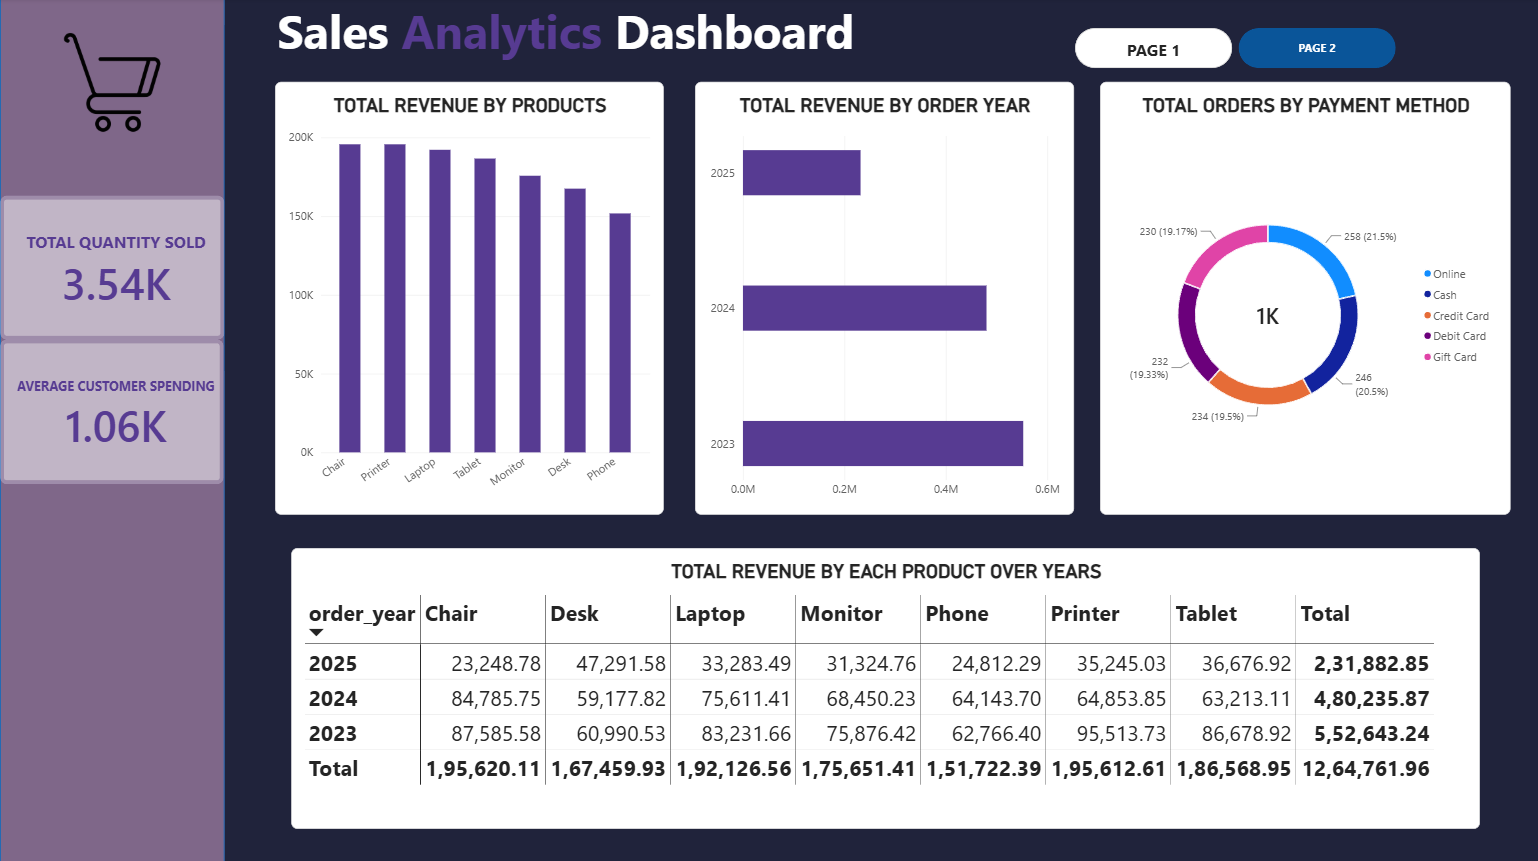

What the dashboard file says about the page in this screenshot:
{"tool":"powerbi","page":{"name":"PAGE 2","canvas":[1920,1080],"ordinal":1},"visuals":[{"type":"textbox","box":[280,0,850,120],"z":0},{"type":"shape","box":[0,0,280,1080],"z":1000},{"type":"image","box":[0,0,280,210],"z":2000},{"type":"cardVisual","fields":{"Data":["Sum(online_store_analysis vw_total_quantity_sold.total_quantity_sold)"]},"box":[0,245.7,280,180],"z":3000},{"type":"cardVisual","fields":{"Data":["Sum(online_store_analysis vw_average_customer_spending.average_customer_spending)"]},"box":[0,425.4,279.4,181.5],"z":4000},{"type":"barChart","title":"TOTAL REVENUE BY ORDER YEAR","fields":{"Category":["online_store_analysis vw_yearly_revenue.order_year"],"Y":["Sum(online_store_analysis vw_yearly_revenue.total_revenue)"]},"box":[867.5,105,472.5,540],"z":5000},{"type":"donutChart","title":"TOTAL ORDERS BY PAYMENT METHOD","fields":{"Category":["online_store_analysis vw_payment_method_popularity.PaymentMethod"],"Y":["Sum(online_store_analysis vw_payment_method_popularity.total_orders)"]},"box":[1372.5,105,512.3,540],"z":6000},{"type":"columnChart","title":"TOTAL REVENUE BY PRODUCTS","fields":{"Category":["online_store_analysis vw_product_revenue.Product"],"Y":["Sum(online_store_analysis vw_product_revenue.total_revenue)"]},"box":[342.5,105,485,540],"z":6003},{"type":"pivotTable","title":"TOTAL REVENUE BY EACH PRODUCT OVER YEARS","fields":{"Columns":["online_store_analysis vw_yearly_product_revenue.Product"],"Rows":["online_store_analysis vw_yearly_product_revenue.order_year"],"Values":["Sum(online_store_analysis vw_yearly_product_revenue.total_revenue)"]},"box":[363.3,686.7,1482.5,350],"z":6004},{"type":"pageNavigator","box":[1340,36.7,400,50],"z":6005}]}

Visuals, with their boxes in screenshot pixels (x1, y1, x2, y2), scaled from the page's 1920x1080 canvas onto the 1538x861 screenshot:
textbox: <bbox>224, 0, 905, 96</bbox>
shape: <bbox>0, 0, 224, 860</bbox>
image: <bbox>0, 0, 224, 167</bbox>
cardVisual - Sum(online_store_analysis vw_total_quantity_sold.total_quantity_sold): <bbox>0, 196, 224, 339</bbox>
cardVisual - Sum(online_store_analysis vw_average_customer_spending.average_customer_spending): <bbox>0, 339, 224, 484</bbox>
"TOTAL REVENUE BY ORDER YEAR" barChart: <bbox>695, 84, 1073, 514</bbox>
"TOTAL ORDERS BY PAYMENT METHOD" donutChart: <bbox>1099, 84, 1510, 514</bbox>
"TOTAL REVENUE BY PRODUCTS" columnChart: <bbox>274, 84, 663, 514</bbox>
"TOTAL REVENUE BY EACH PRODUCT OVER YEARS" pivotTable: <bbox>291, 547, 1479, 826</bbox>
pageNavigator: <bbox>1073, 29, 1394, 69</bbox>
